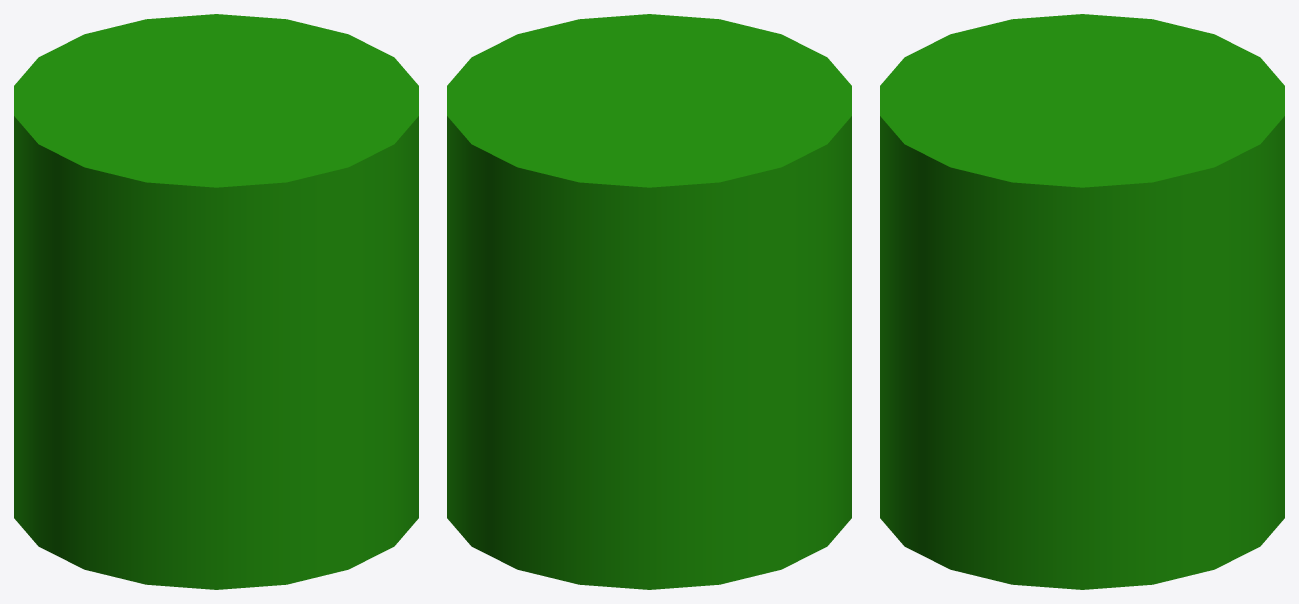
File: Green.FBX
The picture shows the model from 3 angles, left to right: view 1: azimuth 30°, elevation 25°; view 2: azimuth 150°, elevation 25°; view 3: azimuth 270°, elevation 25°; orthographic projection.
Visible parts, largest first — view 1: Cylinder001; view 2: Cylinder001; view 3: Cylinder001.
Boxes of the visible parts, box(x1,y1,x2,y2) form: Cylinder001: box(14, 14, 418, 589); Cylinder001: box(447, 14, 851, 589); Cylinder001: box(880, 14, 1284, 589).
Bounding box in the file's own units: 20.84 × 22.5 × 20.52.
